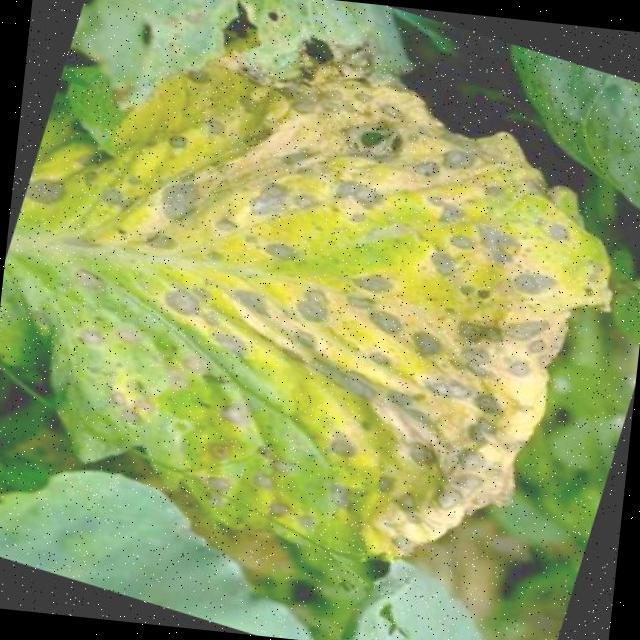Lettuce Mosaic Virus: (60, 93, 576, 523)
